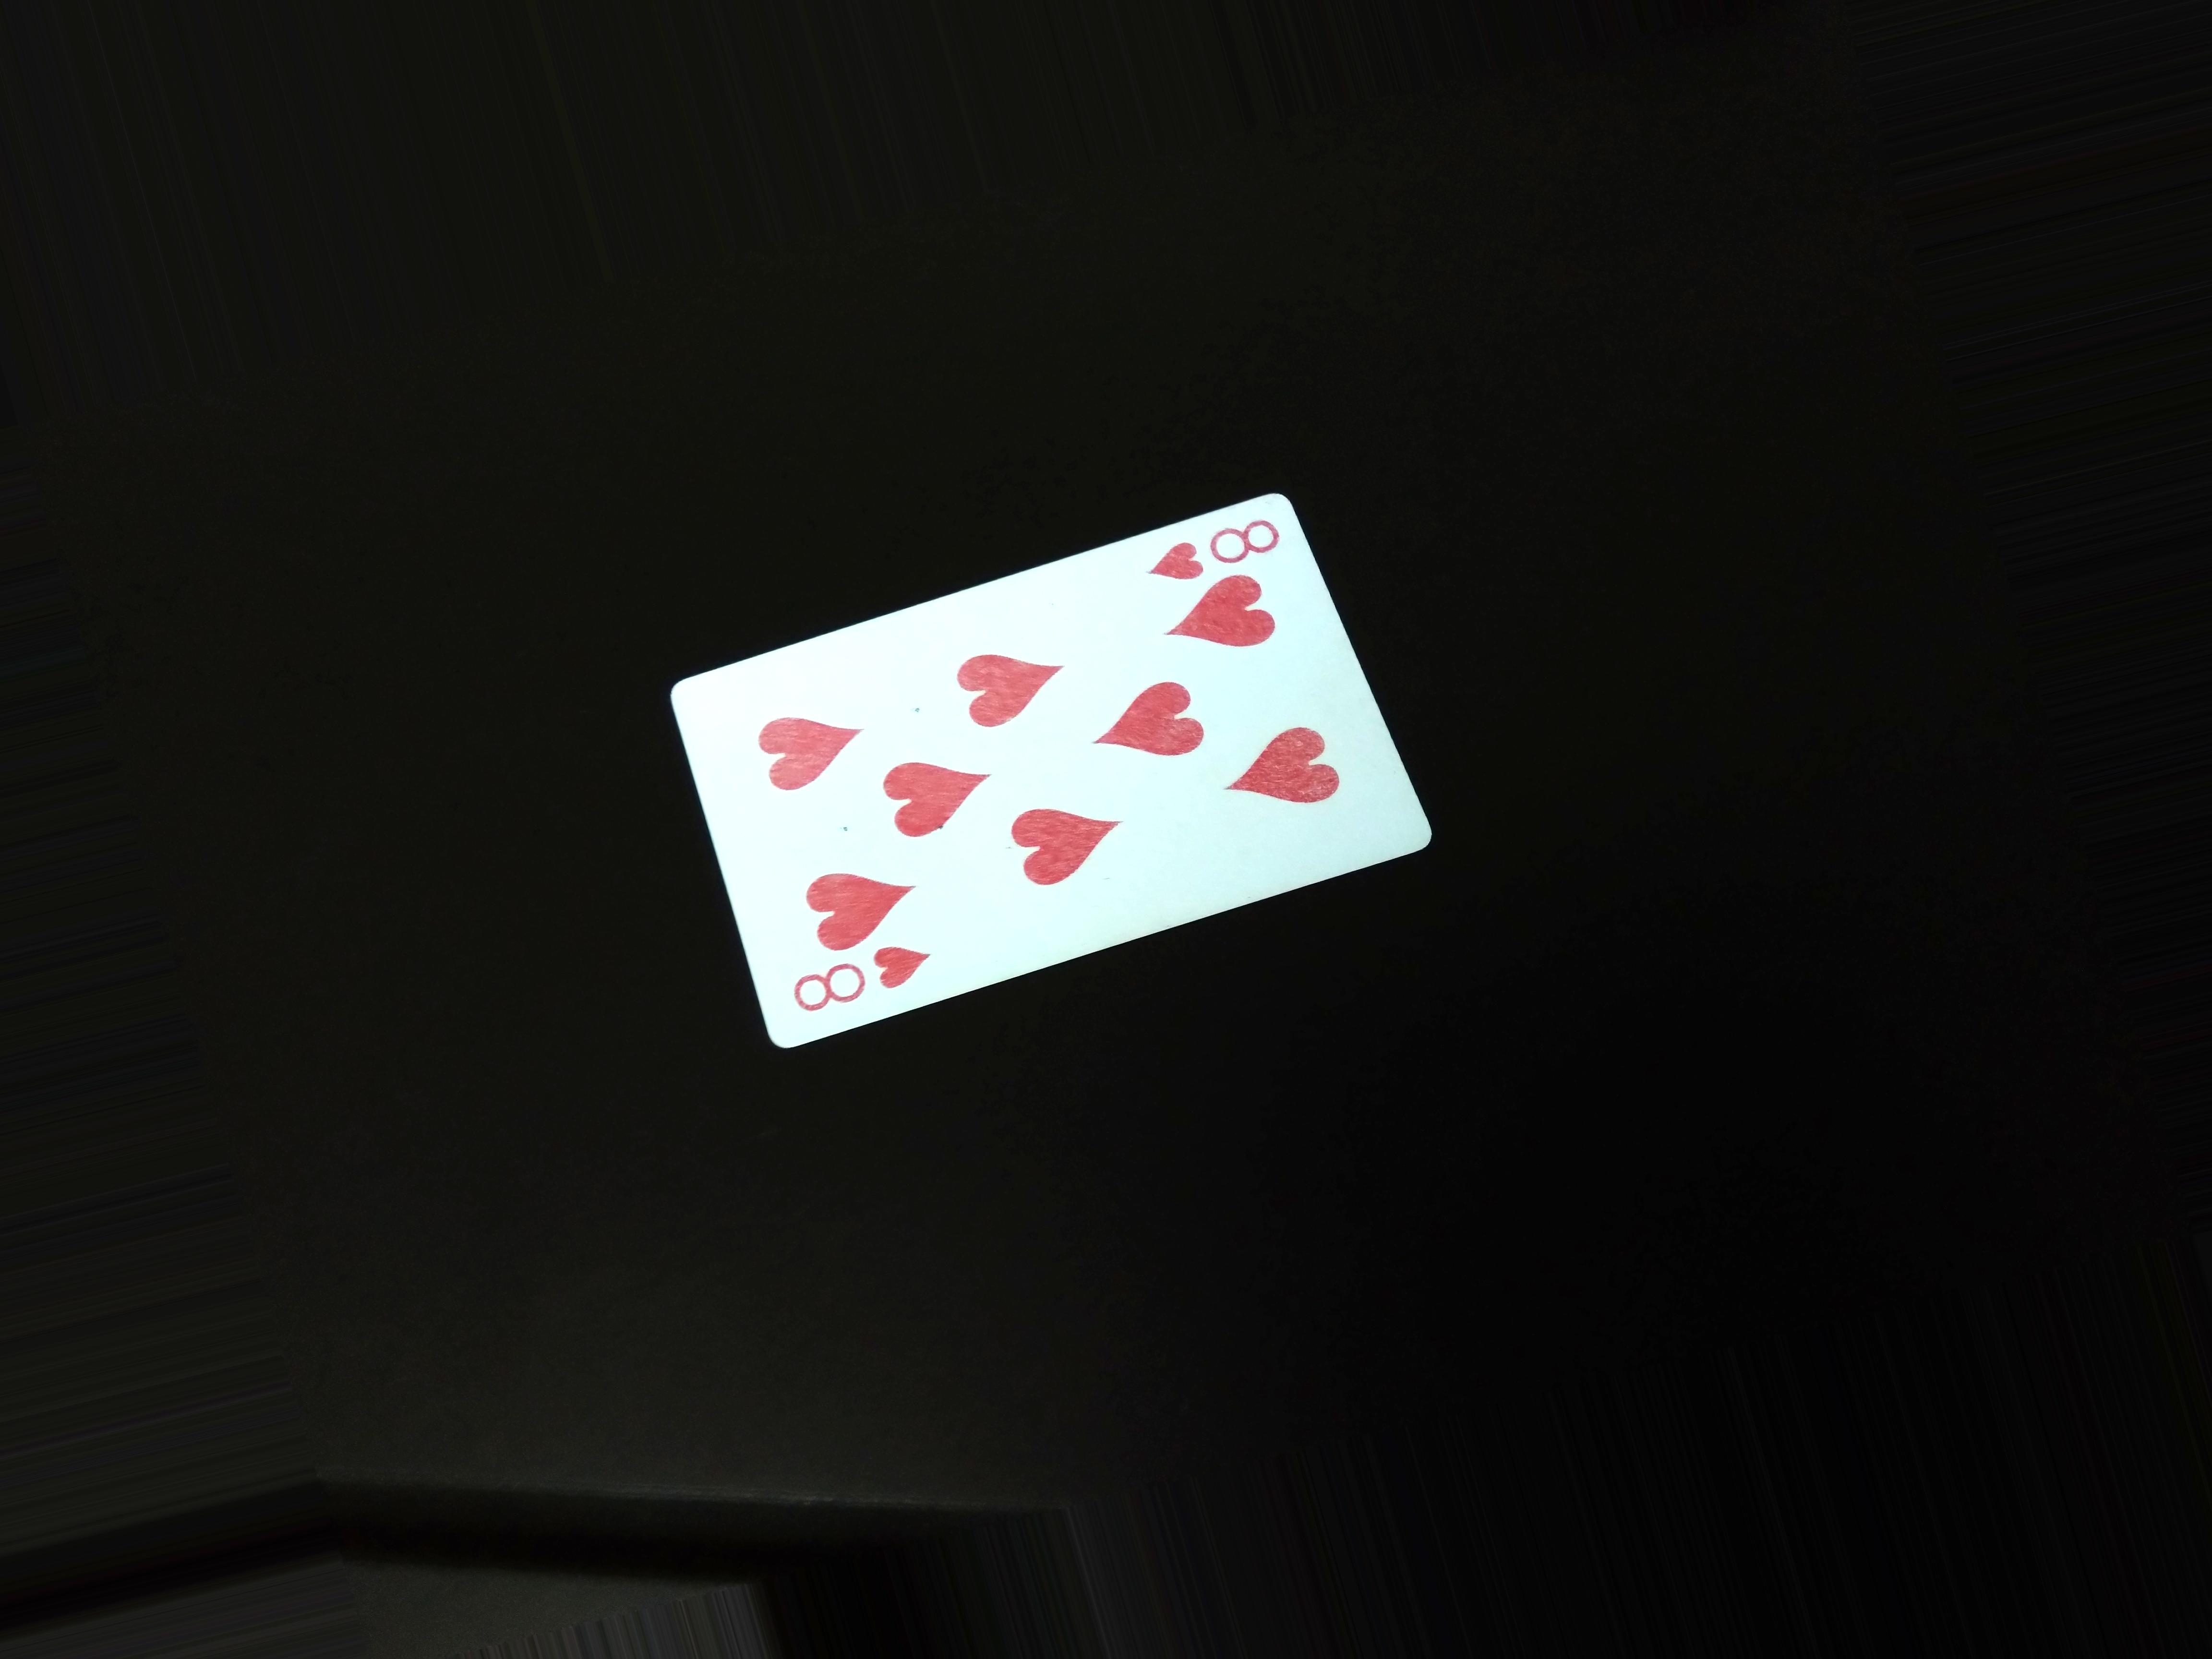8H: (770, 945, 946, 1016)
